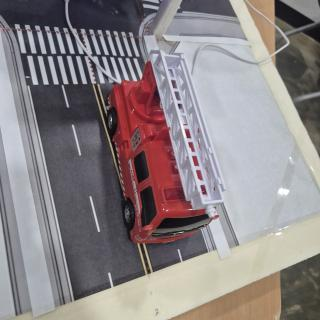Fire_truck: (106, 50, 225, 243)
